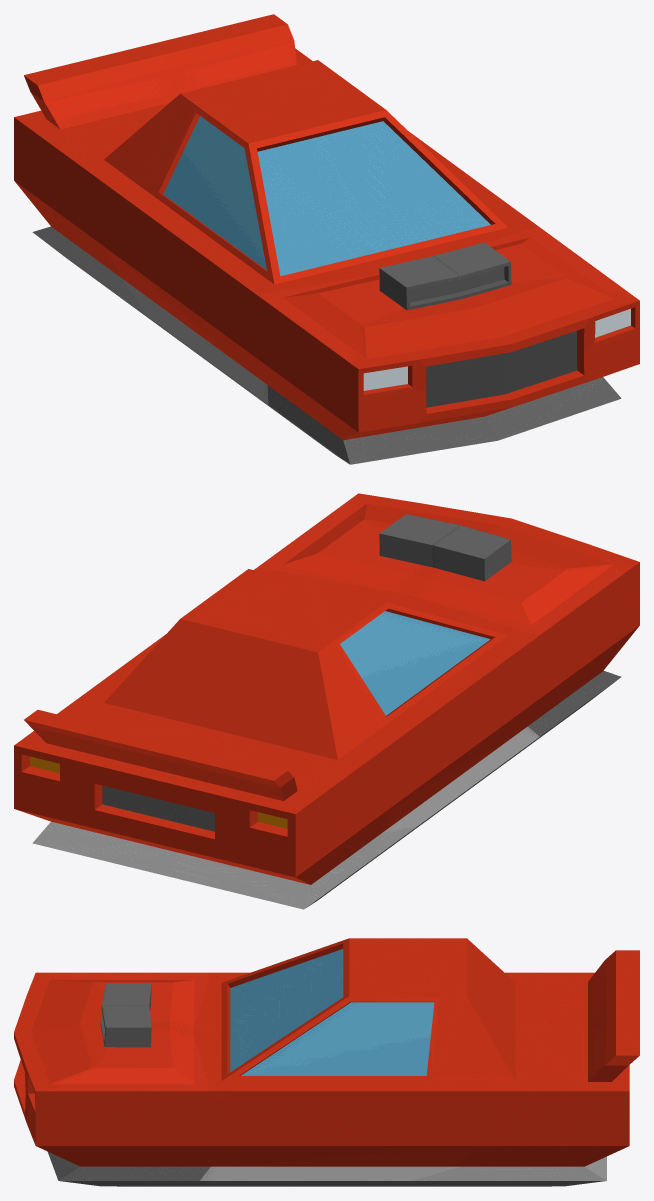
The model's file is MuscleCar01.glb.
3 views of the same model, one above another, from view 1: azimuth 30°, elevation 25°; view 2: azimuth 150°, elevation 25°; view 3: azimuth 270°, elevation 25° (orthographic). The views are drawn at different scales.
Visible parts, largest first — view 1: Cube; view 2: Cube; view 3: Cube.
Part boxes in pixels (bbox=[...]): Cube: bbox=[14, 14, 639, 464]; Cube: bbox=[14, 493, 639, 909]; Cube: bbox=[14, 938, 639, 1186].
Bounding box in the file's own units: 4.52 × 3.05 × 10.1.
Materials: 1 (1 with a texture image).
